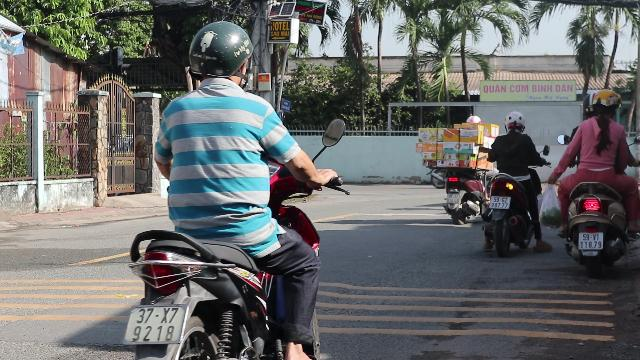helmet: (184, 21, 254, 90), (592, 88, 620, 118), (502, 111, 524, 133), (582, 90, 598, 120)
licenseplate: (123, 304, 187, 344), (579, 233, 603, 249), (490, 196, 510, 208), (446, 193, 460, 203)
motorcyclist: (116, 21, 342, 355), (550, 87, 640, 276), (482, 109, 546, 255), (419, 110, 486, 224)
